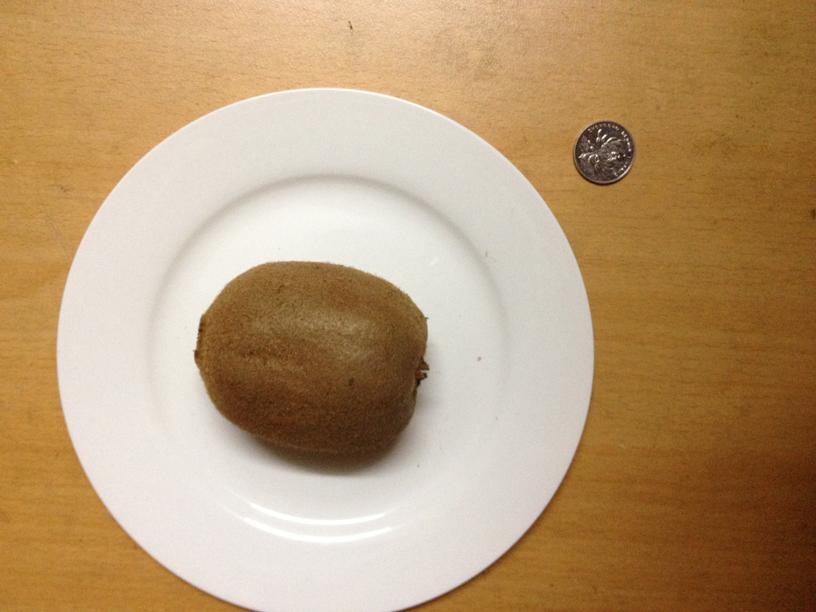coin: (572, 118, 633, 185)
qiwi: (184, 265, 429, 436)
